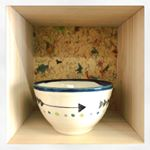cups: (30, 76, 117, 139)
